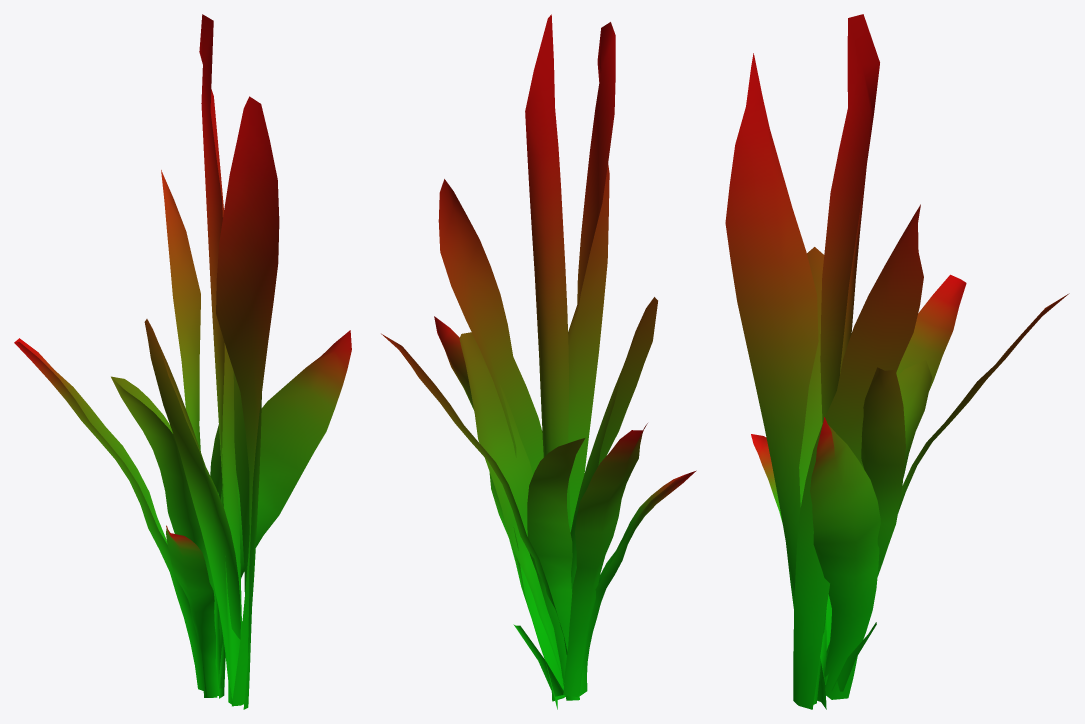
The model's file is Snake Plant_LOD0_Var5_sgtmY.fbx.
The picture shows the model from 3 angles, left to right: view 1: azimuth 30°, elevation 25°; view 2: azimuth 150°, elevation 25°; view 3: azimuth 270°, elevation 25°; orthographic projection. The views are drawn at different scales.
Visible parts, largest first — view 1: _3d8c_Var5_LOD0; view 2: _3d8c_Var5_LOD0; view 3: _3d8c_Var5_LOD0.
Part boxes in pixels (bbox=[...]): _3d8c_Var5_LOD0: bbox=[14, 14, 351, 709]; _3d8c_Var5_LOD0: bbox=[381, 14, 696, 709]; _3d8c_Var5_LOD0: bbox=[725, 14, 1069, 709].
Bounding box in the file's own units: 51.54 × 124 × 56.19.
